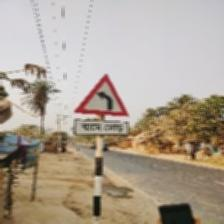Left-Turn: (73, 74, 131, 137)
